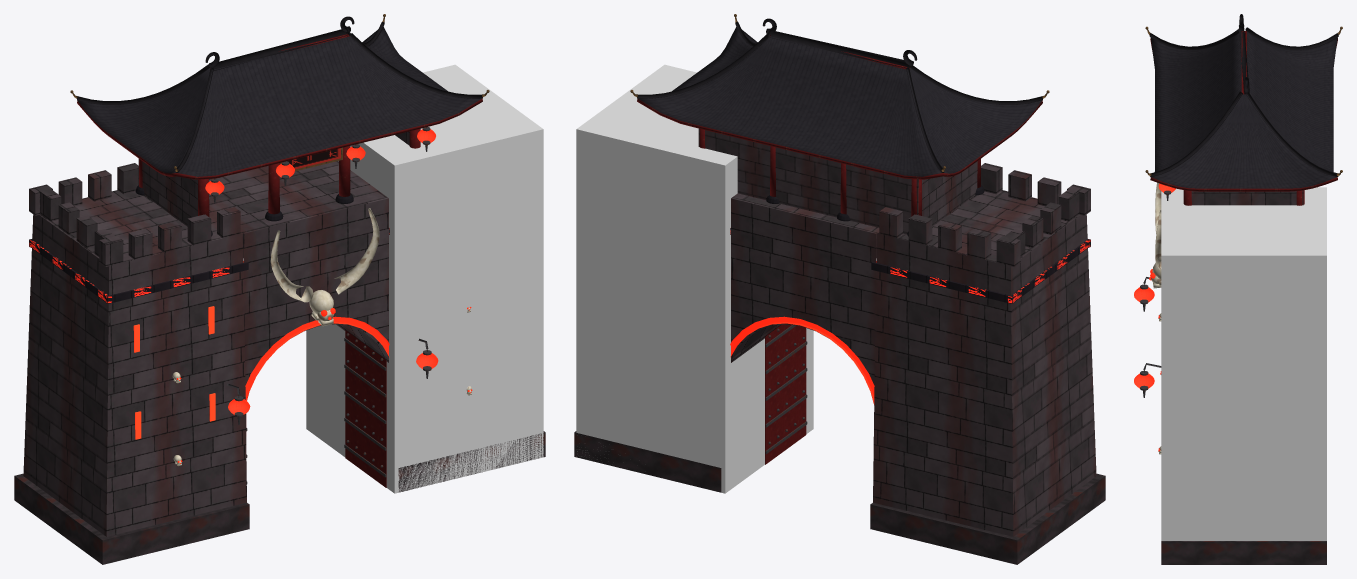
File: demon_gate.glb
3 renders of one model, left to right at view 1: azimuth 30°, elevation 25°; view 2: azimuth 150°, elevation 25°; view 3: azimuth 270°, elevation 25°, orthographic. The views are drawn at different scales.
Parts seen in each view (by area): view 1: GateStone, GateTower-convcolonly.001, GateRoof, GatePlinth, GateDoors, GateRoofRidges, GateSkulls, GateTowerWalls, GateCornice, GateTowerColumns, GateLanterns, GateRuneTrim (+3 smaller); view 2: GateStone, GateTower-convcolonly.001, GateRoof, GateTowerWalls, GatePlinth, GateDoors, GateRoofRidges, GateCornice, GateRuneTrim, GateTowerColumns, GateStuds; view 3: GateTower-convcolonly.001, GateRoof, GatePlinth, GateRoofRidges, GateTowerWalls, GateSkulls, GateLanterns, GateIronwork.
Boxes of the visible parts, left/top/right/bottom form: GateStone: left=23, top=161, right=388, bottom=536; GateTower-convcolonly.001: left=306, top=64, right=543, bottom=493; GateRoof: left=77, top=27, right=482, bottom=179; GatePlinth: left=14, top=431, right=545, bottom=564; GateDoors: left=246, top=330, right=386, bottom=487; GateRoofRidges: left=77, top=16, right=482, bottom=172; GateSkulls: left=172, top=208, right=471, bottom=466; GateTowerWalls: left=138, top=131, right=409, bottom=226; GateCornice: left=29, top=228, right=389, bottom=303; GateTowerColumns: left=139, top=128, right=420, bottom=216; GateLanterns: left=205, top=129, right=438, bottom=414; GateRuneTrim: left=243, top=261, right=389, bottom=400; GateStone: left=731, top=163, right=1096, bottom=536; GateTower-convcolonly.001: left=576, top=64, right=813, bottom=493; GateRoof: left=637, top=27, right=1042, bottom=179; GateTowerWalls: left=698, top=128, right=977, bottom=234; GatePlinth: left=574, top=431, right=1105, bottom=564; GateDoors: left=765, top=324, right=806, bottom=464; GateRoofRidges: left=637, top=18, right=1042, bottom=172; GateCornice: left=730, top=228, right=1090, bottom=303; GateRuneTrim: left=730, top=261, right=876, bottom=404; GateTowerColumns: left=699, top=129, right=980, bottom=216; GateStuds: left=765, top=324, right=807, bottom=454; GateTower-convcolonly.001: left=1161, top=187, right=1326, bottom=540; GateRoof: left=1150, top=31, right=1337, bottom=191; GatePlinth: left=1161, top=541, right=1326, bottom=564; GateRoofRidges: left=1149, top=14, right=1338, bottom=176; GateTowerWalls: left=1191, top=190, right=1303, bottom=205; GateSkulls: left=1151, top=182, right=1161, bottom=454; GateLanterns: left=1134, top=183, right=1175, bottom=388; GateIronwork: left=1140, top=190, right=1171, bottom=397.
Size of what is drawn, in the model's own units: 22.6 by 21.65 by 9.83.
Materials: 14 (12 with a texture image).
